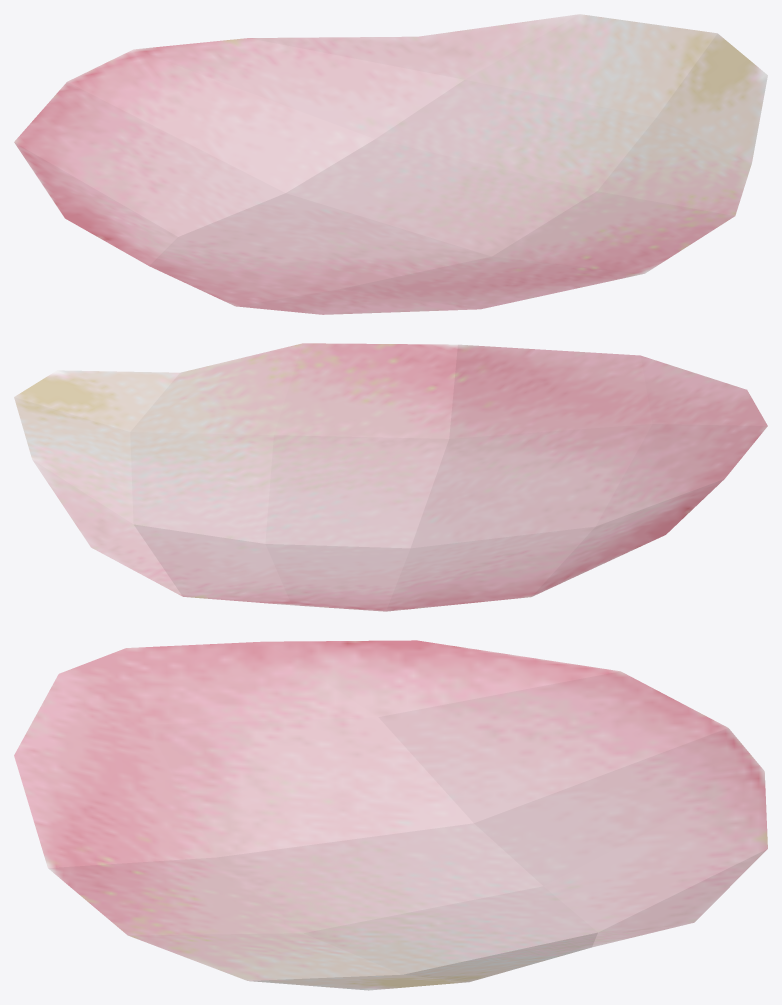
The model's file is pedal2.glb.
3 renders of one model, top to bottom at view 1: azimuth 30°, elevation 25°; view 2: azimuth 150°, elevation 25°; view 3: azimuth 270°, elevation 25°, orthographic. The views are drawn at different scales.
Parts seen in each view (by area): view 1: pedal1.001; view 2: pedal1.001; view 3: pedal1.001.
Part boxes in pixels (<box>): pedal1.001: <box>14,14,767,314</box>; pedal1.001: <box>14,343,767,611</box>; pedal1.001: <box>14,640,767,990</box>.
Size of the model in its own units: 4.45 by 0.4068 by 4.12.
1 material, 1 textured.
